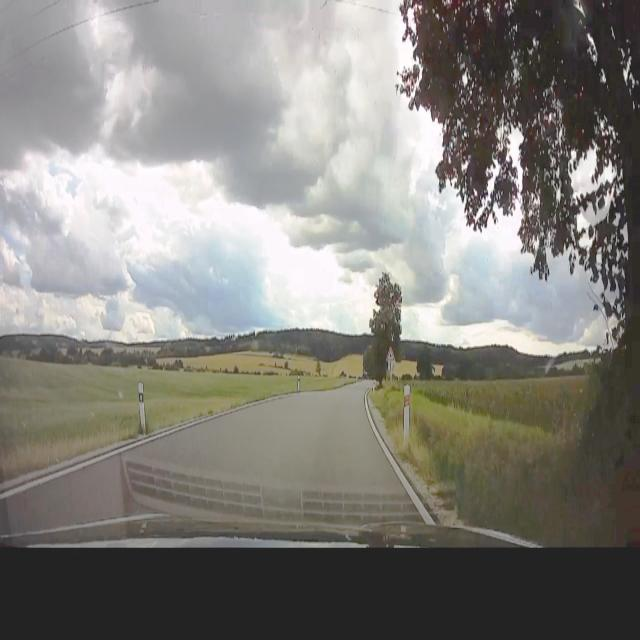Priority road: (385, 343, 396, 362)
